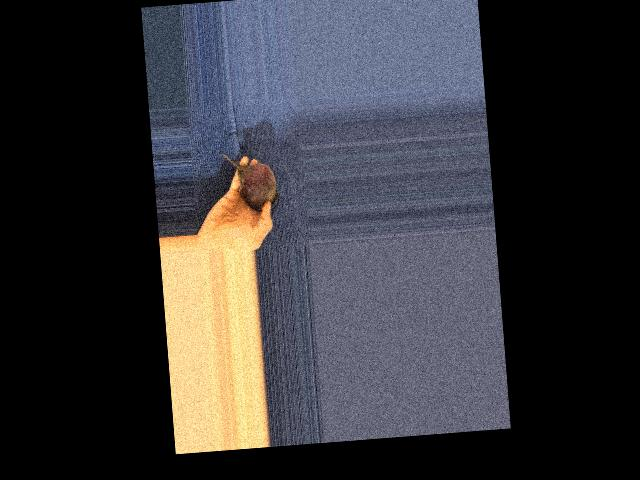beet: (220, 149, 280, 213)
